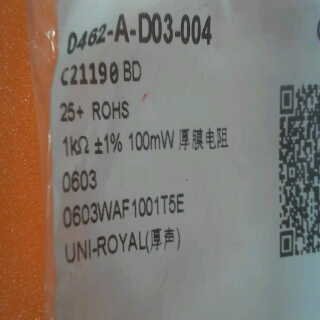1kR: (57, 134, 91, 158)
